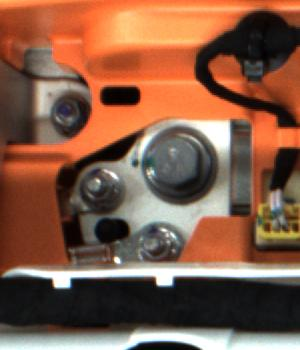nut_b: (137, 127, 224, 208)
